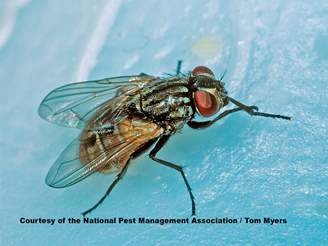house fly: (38, 62, 294, 220)
